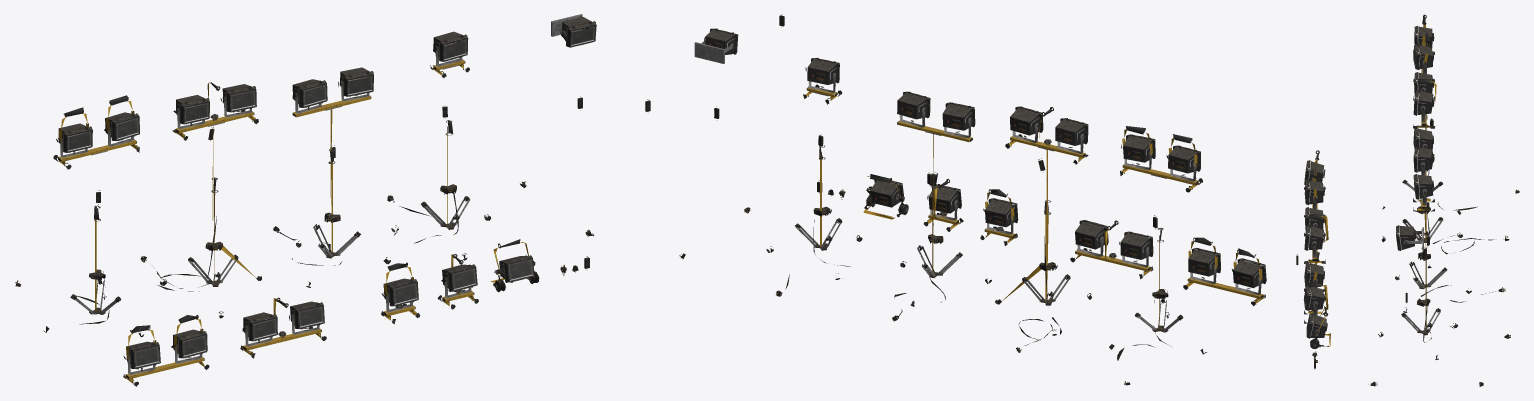
The model's file is ph_flood_lights.glb.
The picture shows the model from 3 angles, left to right: view 1: azimuth 30°, elevation 25°; view 2: azimuth 150°, elevation 25°; view 3: azimuth 270°, elevation 25°; orthographic projection. The views are drawn at different scales.
Parts seen in each view (by area): view 1: flood_lights_cable_a_geo; view 2: flood_lights_cable_a_geo; view 3: flood_lights_cable_a_geo.
Boxes of the visible parts, bbox=[...] form: flood_lights_cable_a_geo: bbox=[15, 14, 650, 386]; flood_lights_cable_a_geo: bbox=[679, 14, 1266, 385]; flood_lights_cable_a_geo: bbox=[1296, 14, 1519, 386].
Size of the model in its own units: 4.57 by 1.81 by 2.04.
Materials: 2 (2 with a texture image).
